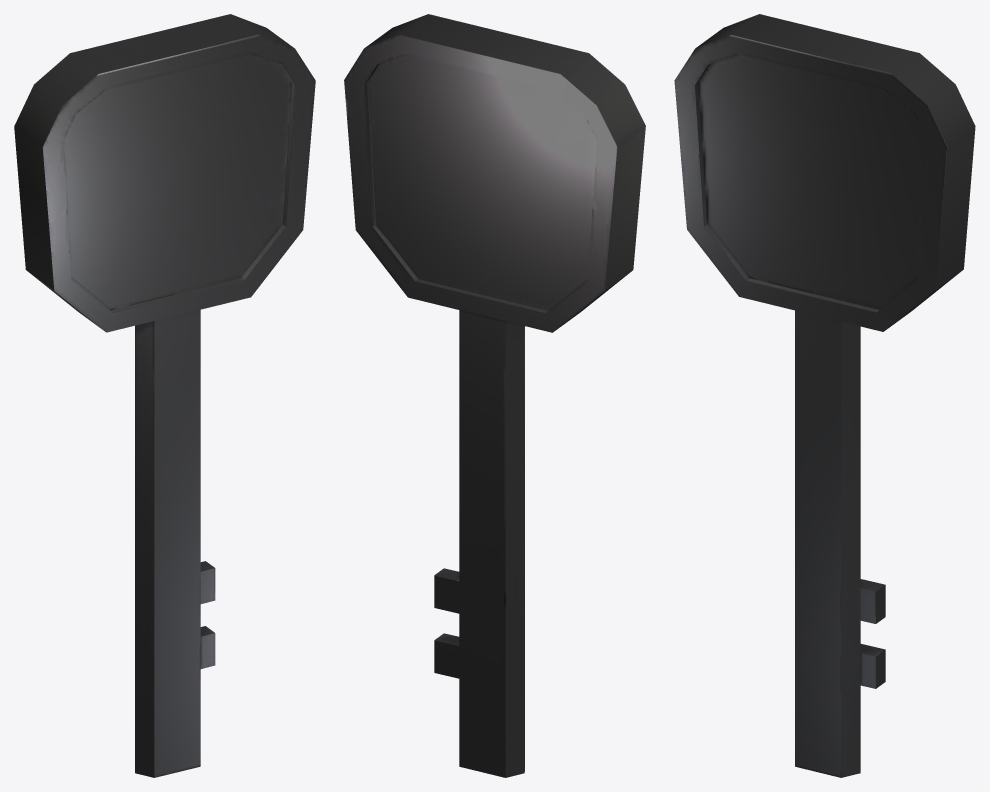
File: key.obj
3 views of the same model, side by side, from view 1: azimuth 30°, elevation 25°; view 2: azimuth 150°, elevation 25°; view 3: azimuth 330°, elevation 25° (orthographic).
Parts seen in each view (by area): view 1: Circle.001; view 2: Circle.001; view 3: Circle.001.
Boxes of the visible parts, <box> form: Circle.001: <box>14,14,315,777</box>; Circle.001: <box>344,14,645,777</box>; Circle.001: <box>674,14,975,777</box>.
Size of the model in its own units: 0.0849 by 0.2144 by 0.0156.
Materials: 1 (1 with a texture image).
